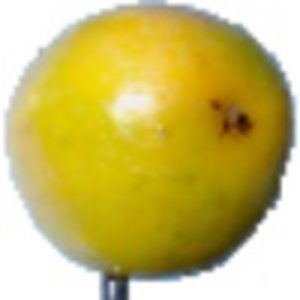maracujá: (4, 1, 299, 300)
